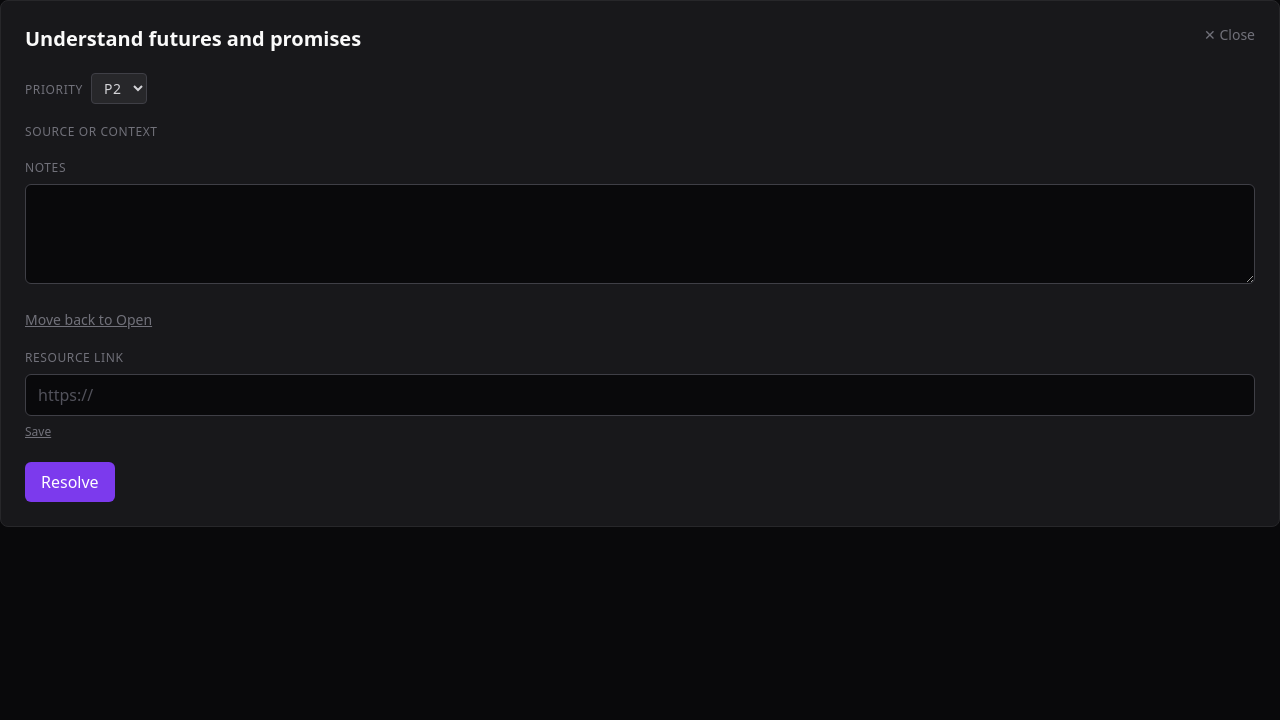
it: US-013 + US-015: ItemDetail — resolve flow › disables the submit button while a resolve request is in flight
Click the button "Resolve" at [70, 482], box [25, 462, 115, 502]
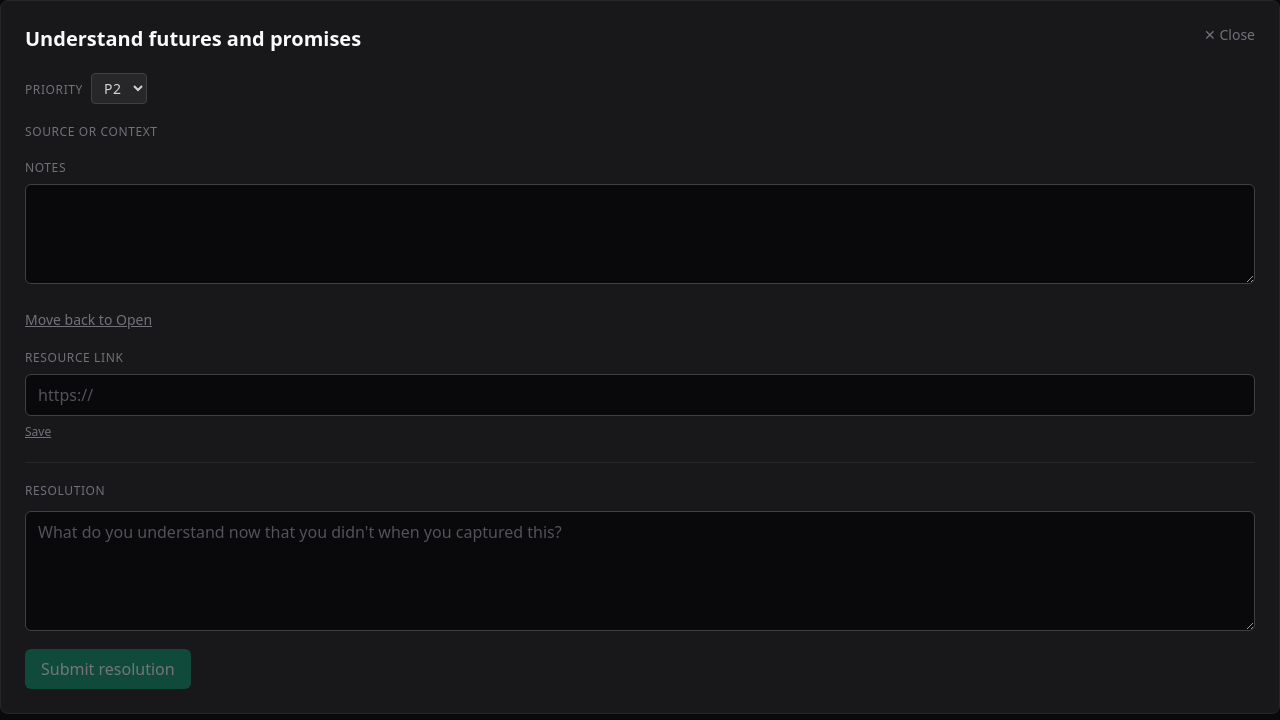
Type "Some explanation" into the text box with placeholder "What do you understand now" at [640, 571], box [25, 511, 1255, 631]
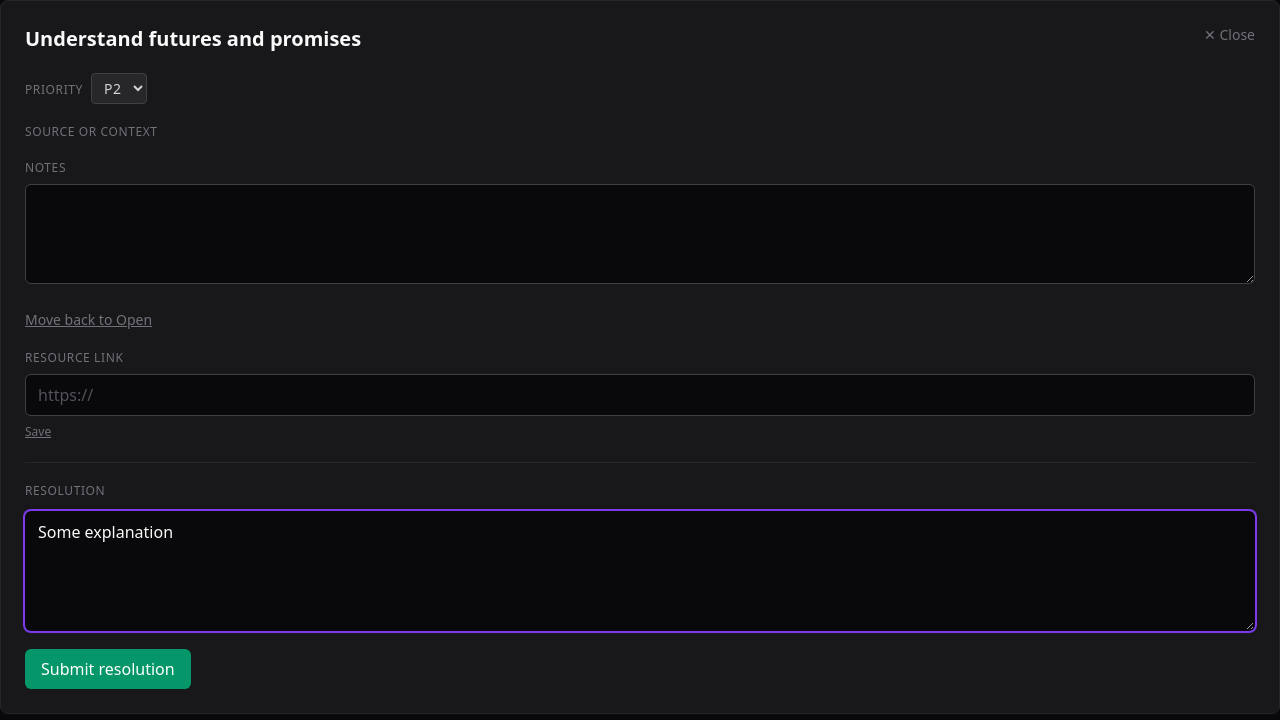
Click the button "Submit resolution" at [108, 669], box [25, 649, 191, 689]
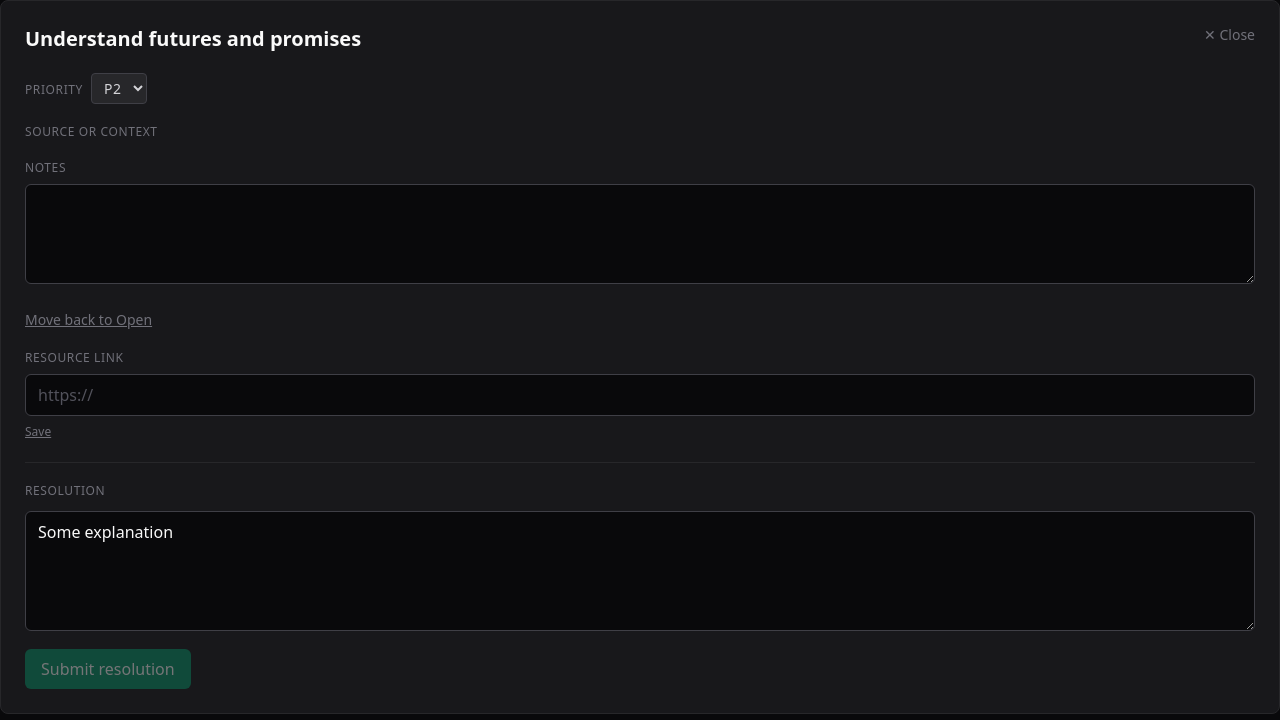
expect the button "Submit resolution" is disabled: met, box [25, 649, 191, 689]
